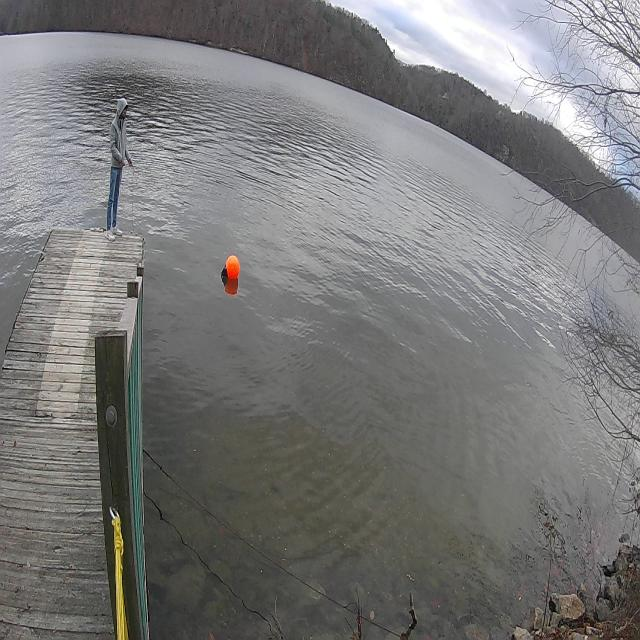Buoy: (221, 252, 241, 288)
